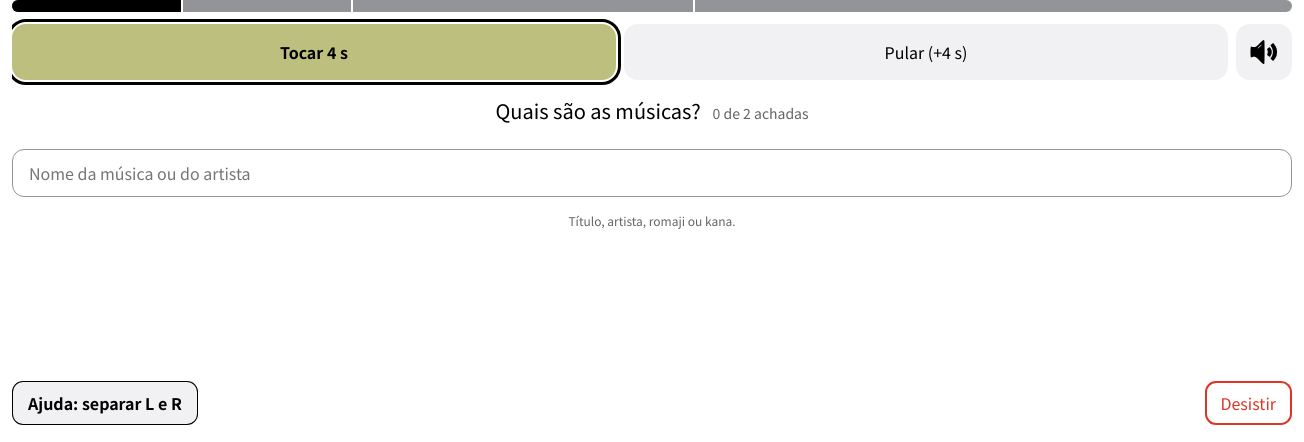
Test case: MixedRoundView (M17) › a música achada continua na mistura tocando, e o som continua (o usuário, 24/10/2026)
The width and height of the screenshot is (1304, 442).
Step 1. Click the button "Tocar 4 s" → point(314, 52), box [12,24,616,80]
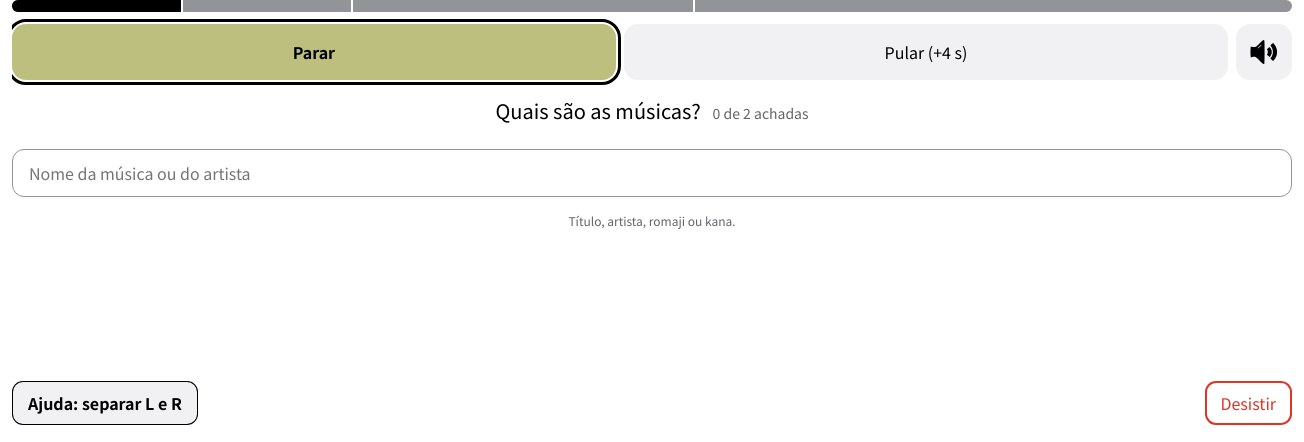
Step 2. Type "Música 2" into the dropdown labelled "Quais são as músicas?" → point(652, 173), box [12,149,1292,197]
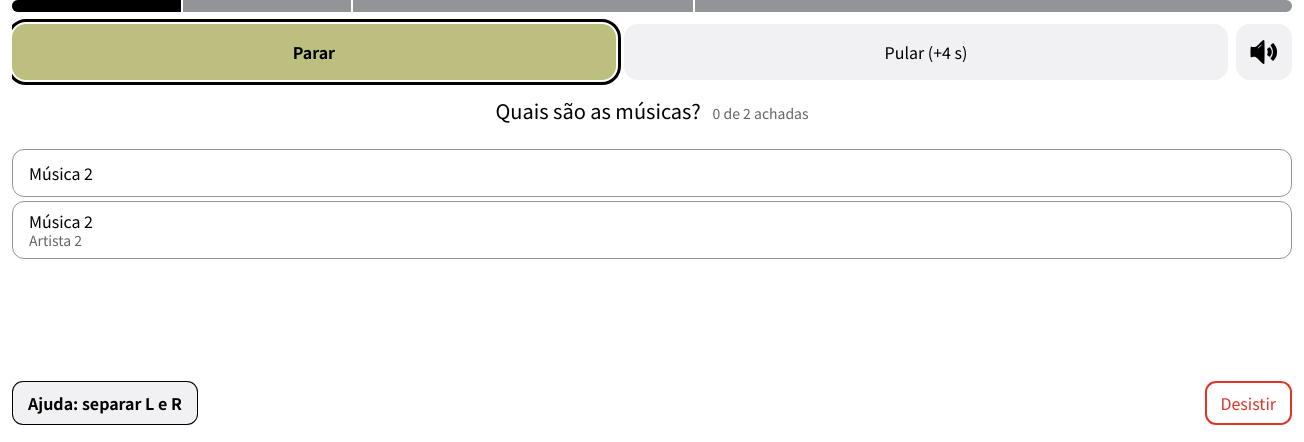
Step 3. Click the option "Música 2 Artista 2" → point(61, 230), box [29,209,93,250]
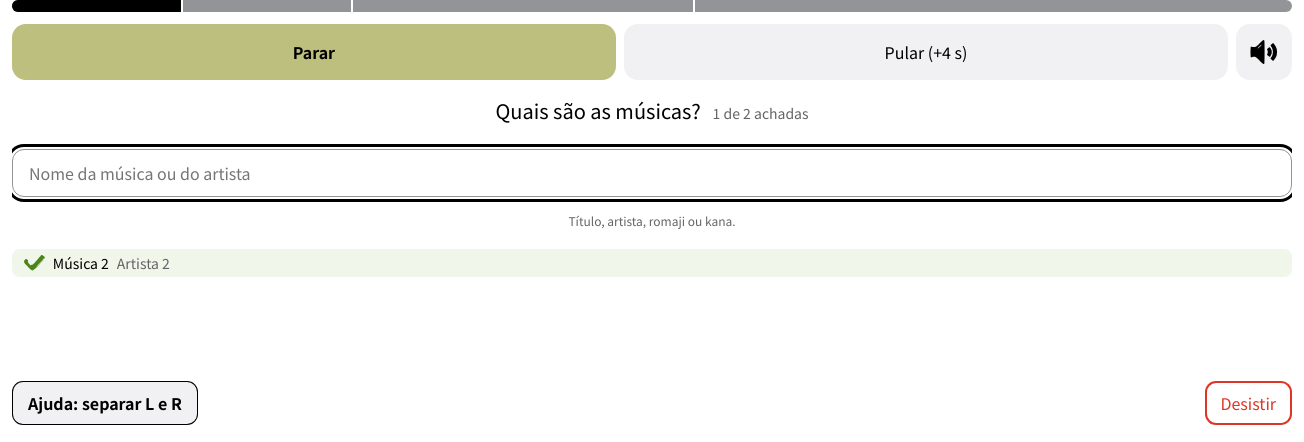
expect the text "1 de 2 achadas" is shown: met, box [713,103,808,123]
